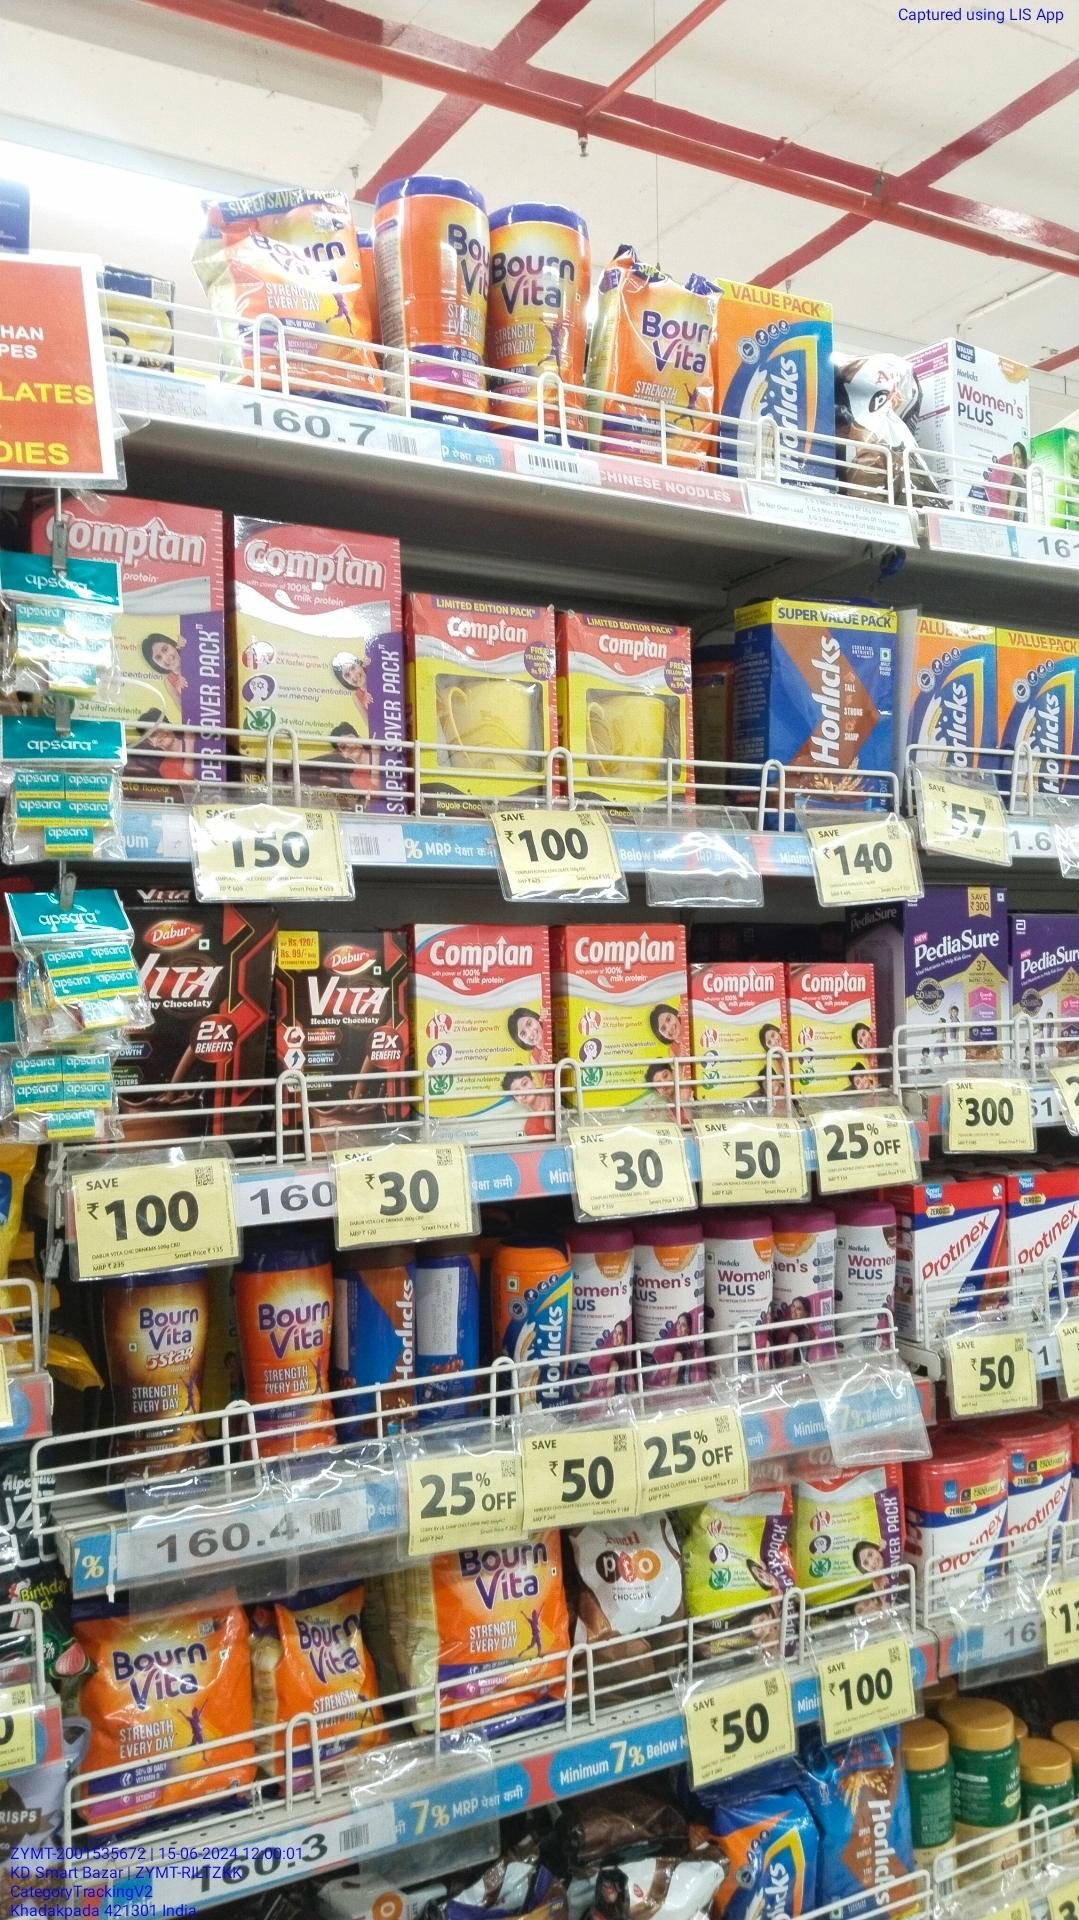BOURN_VITA_1_KG_JAR: (393, 177, 491, 427), (499, 206, 591, 448)
BOURN_VITA_1_KG_POUCH: (222, 185, 372, 400), (608, 252, 712, 464)
BOURN_VITA_500_G_JAR: (236, 1257, 335, 1476)
BOURN_VITA_500_G_POUCH: (83, 1611, 249, 1820), (260, 1596, 386, 1774)
BOURN_VITA_750_G_POUCH: (430, 1551, 571, 1731)
BOURN_VITA_FIVE_STAR_MAGIC_500_G_JAR: (106, 1279, 216, 1501)
COMPLAN_CHOCOLATE_1_KG_PACK: (240, 518, 398, 811), (766, 604, 893, 825)
COMPLAN_CHOCOLATE_200_GMS_PACK: (696, 961, 785, 1110), (791, 961, 875, 1098)
COMPLAN_CREAMY_CLASSIC_500_G_PACK: (416, 924, 549, 1139)
COMPLAN_KESAR_BADAM_500_GMS_PACK: (569, 927, 690, 1126)
COMPLAN_RC_POUCH_700_GMS_12: (689, 1497, 801, 1672), (806, 1465, 902, 1634)
HORLICK_CHOCOLATE_500_G_JAR: (342, 1250, 422, 1444)
HORLICK_CLASSIC_MALT_500_G_JAR: (497, 1244, 572, 1429)
PEDIASURE_CHOCOLATE_500_G_PACK: (906, 902, 1009, 1069)
PROTINEX_CHOCOLATE_400_G_JAR: (918, 1456, 1013, 1611)
